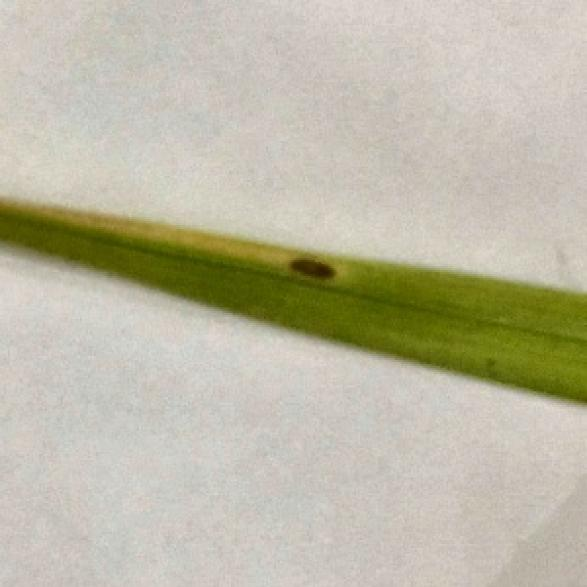Leaf_smut: (252, 251, 344, 292)
